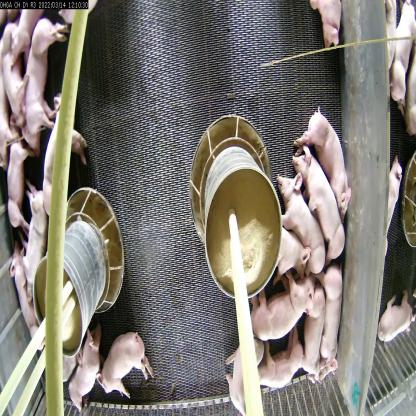Pig: (289, 137, 345, 261), (296, 103, 354, 222), (40, 89, 90, 221), (17, 19, 62, 162), (274, 168, 328, 278), (247, 275, 318, 343), (94, 330, 153, 400), (254, 323, 308, 391), (18, 184, 50, 297), (12, 245, 45, 353), (0, 30, 32, 135), (224, 335, 265, 416), (66, 321, 102, 412), (318, 263, 343, 382), (390, 0, 416, 109), (5, 140, 31, 230), (383, 154, 403, 260), (377, 291, 413, 347), (274, 224, 308, 283), (309, 0, 344, 57), (301, 288, 322, 379)
